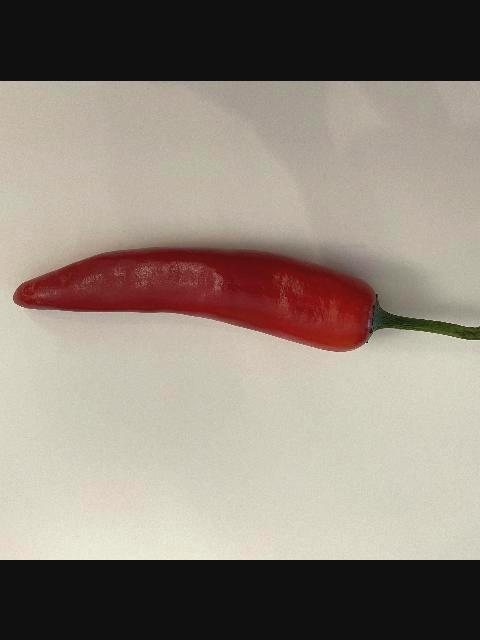chilli: (10, 243, 480, 354)
